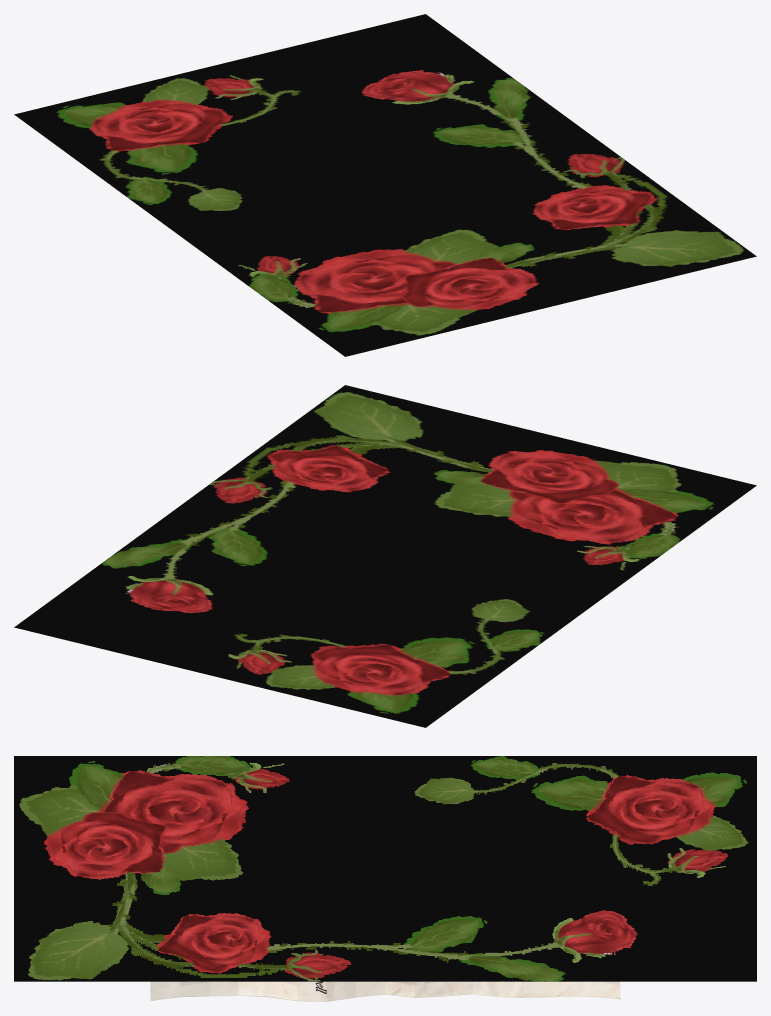
Rendered from rose.gltf.
3 renders of one model, top to bottom at view 1: azimuth 30°, elevation 25°; view 2: azimuth 150°, elevation 25°; view 3: azimuth 270°, elevation 25°, orthographic. The views are drawn at different scales.
Parts seen in each view (by area): view 1: roses; view 2: roses; view 3: roses, parchment texture.
Part boxes in pixels (x1,y1,x2,y2): roses: (14,14,756,356); roses: (14,385,756,727); roses: (14,756,756,981); parchment texture: (150,981,620,1001).
Size of the model in its own units: 2.69 by 0.279 by 3.75.
